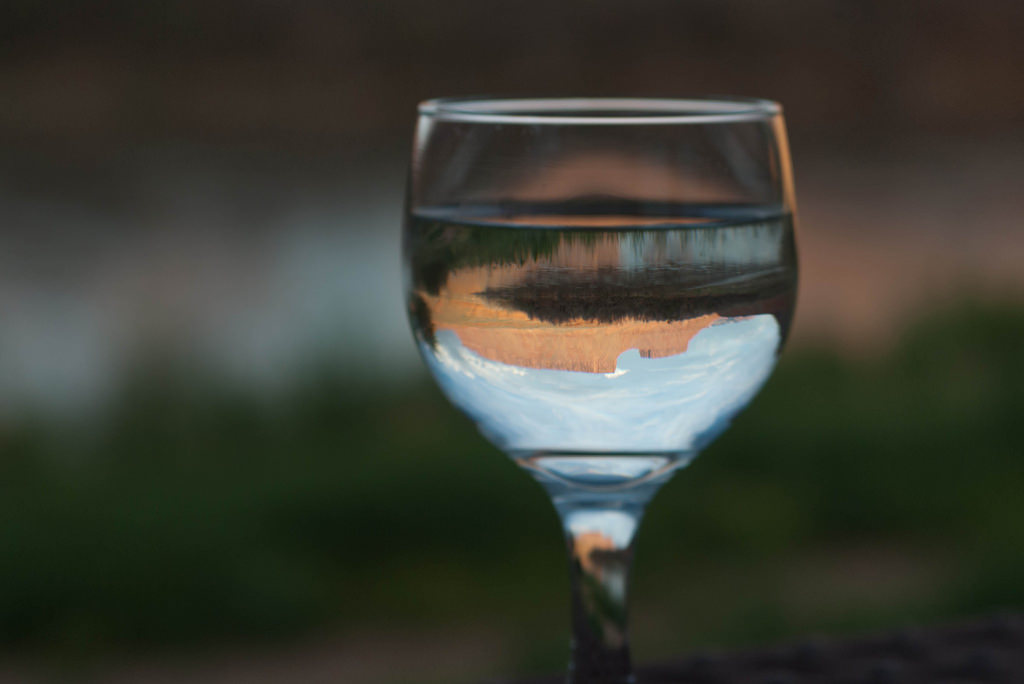glass of water: (413, 99, 797, 680)
